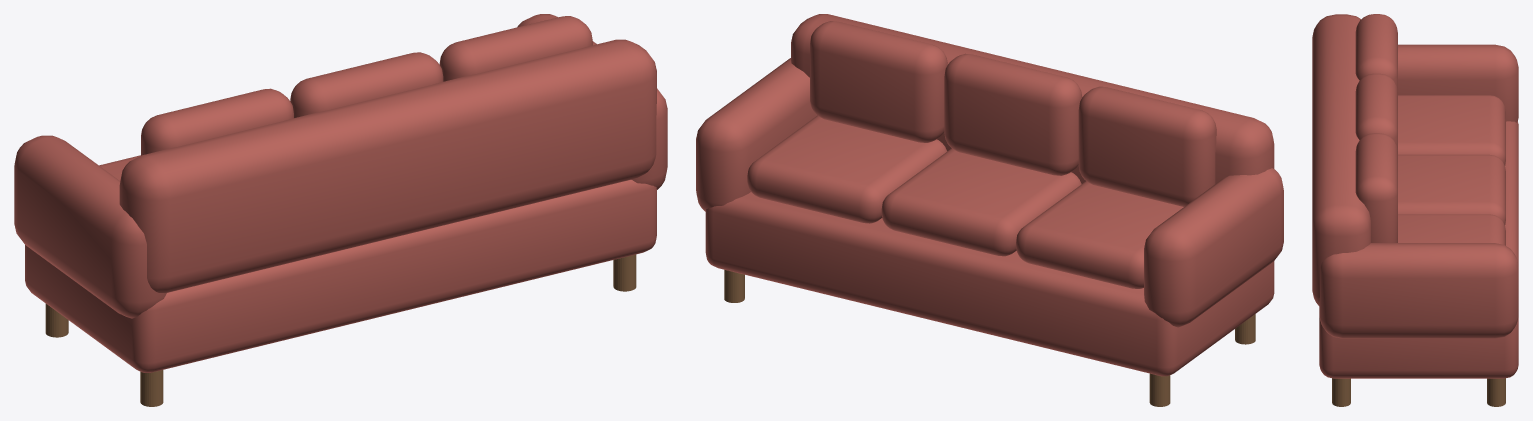
The model's file is sofa_90s.glb.
The picture shows the model from 3 angles, left to right: view 1: azimuth 30°, elevation 25°; view 2: azimuth 150°, elevation 25°; view 3: azimuth 270°, elevation 25°; orthographic projection. The views are drawn at different scales.
Parts seen in each view (by area): view 1: back, base, arm, backcushion, backcushion.001, backcushion.002, arm.001, Cylinder, Cylinder.002, Cylinder.001; view 2: base, arm, backcushion.001, backcushion.002, backcushion, cushion.001, cushion.002, cushion, arm.001, back, Cylinder.001, Cylinder.003; view 3: arm.001, back, base, cushion.001, arm, cushion, backcushion.002, cushion.002, backcushion, backcushion.001, Cylinder.002, Cylinder.003.
Part boxes in pixels (box(x1,y1,x2,y2)): back: box(119, 39, 656, 292); base: box(25, 180, 656, 372); arm: box(14, 135, 166, 318); backcushion: box(141, 88, 293, 155); backcushion.001: box(290, 52, 443, 117); backcushion.002: box(439, 16, 592, 81); arm.001: box(517, 14, 667, 189); Cylinder: box(140, 370, 163, 406); Cylinder.002: box(613, 254, 636, 291); Cylinder.001: box(45, 303, 68, 337); base: box(705, 192, 1274, 376); arm: box(1144, 168, 1283, 327); backcushion.001: box(944, 53, 1082, 175); backcushion.002: box(810, 21, 947, 142); backcushion: box(1078, 86, 1216, 206); cushion.001: box(881, 148, 1081, 256); cushion.002: box(747, 115, 947, 223); cushion: box(1016, 181, 1183, 288); arm.001: box(696, 58, 816, 211); back: box(791, 14, 1274, 183); Cylinder.001: box(1149, 373, 1170, 406); Cylinder.003: box(724, 270, 744, 302); arm.001: box(1319, 243, 1518, 338); back: box(1312, 14, 1370, 305); base: box(1319, 121, 1518, 378); cushion.001: box(1398, 154, 1505, 224); arm: box(1398, 44, 1518, 122); cushion: box(1398, 95, 1505, 165); backcushion.002: box(1355, 133, 1397, 242); cushion.002: box(1398, 214, 1505, 245); backcushion: box(1355, 14, 1397, 91); backcushion.001: box(1355, 73, 1397, 150); Cylinder.002: box(1332, 378, 1350, 406); Cylinder.003: box(1487, 378, 1505, 406).
Bounding box in the file's own units: 2.22 × 1 × 0.88.
